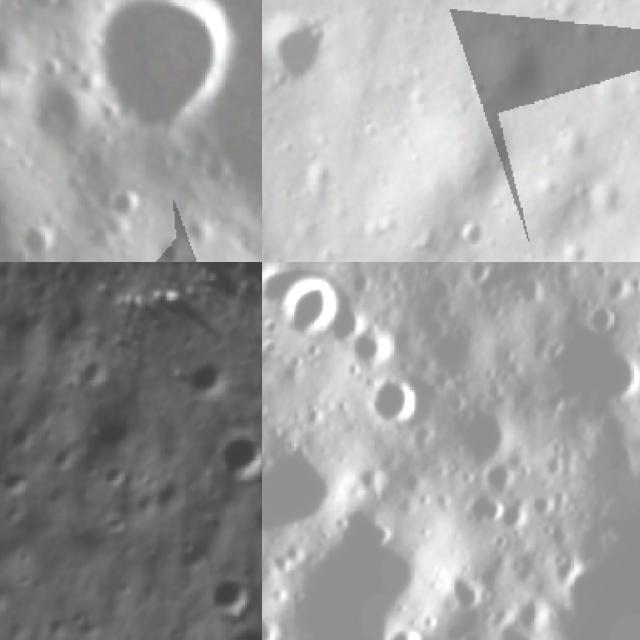crater: (66, 0, 240, 159), (262, 403, 377, 568), (350, 356, 442, 448), (291, 274, 373, 367), (438, 391, 524, 478), (572, 329, 640, 420), (262, 7, 337, 89), (472, 584, 573, 640), (201, 417, 262, 497), (452, 477, 517, 543), (343, 318, 406, 384), (167, 344, 236, 404), (434, 564, 494, 624), (200, 567, 260, 625), (64, 344, 116, 401), (100, 178, 154, 226), (17, 213, 66, 262), (579, 295, 624, 340), (453, 262, 501, 296), (376, 613, 433, 640), (206, 614, 262, 640), (0, 461, 34, 502), (98, 458, 133, 495), (262, 603, 293, 640), (454, 221, 494, 248), (19, 0, 65, 19), (262, 533, 273, 612), (245, 489, 262, 538), (250, 439, 262, 496), (599, 0, 639, 12)
